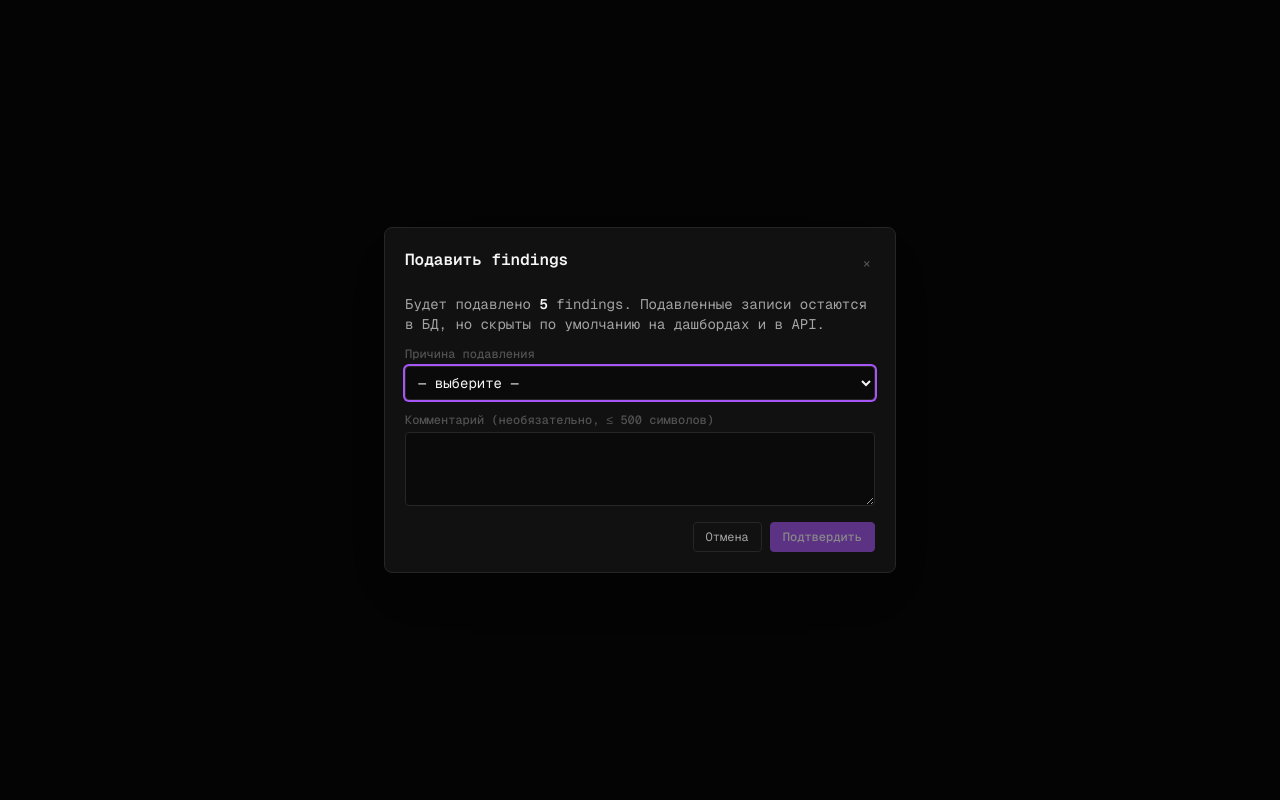
Scenario: BulkActionDialog — suppress flow › confirm button is disabled until a reason is chosen
Expected: the button with test id "bulk-action-dialog-confirm" is disabled, left=770, top=522, right=875, bottom=552
Select "Дубликат" in the dropdown with test id "bulk-suppress-reason" at (640, 383), box left=405, top=366, right=875, bottom=400
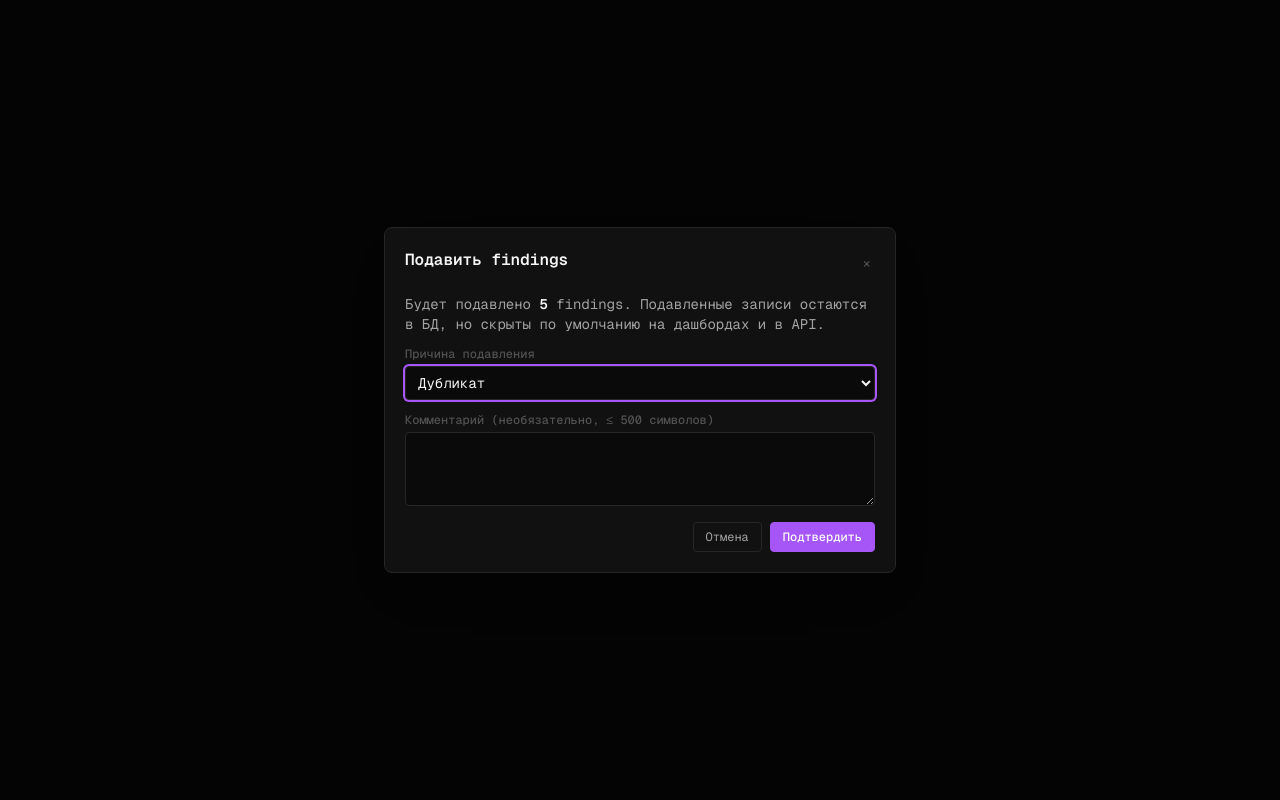
Result: the button with test id "bulk-action-dialog-confirm" is enabled at left=770, top=522, right=875, bottom=552
